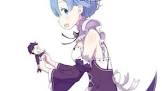rem: (40, 1, 117, 91)
